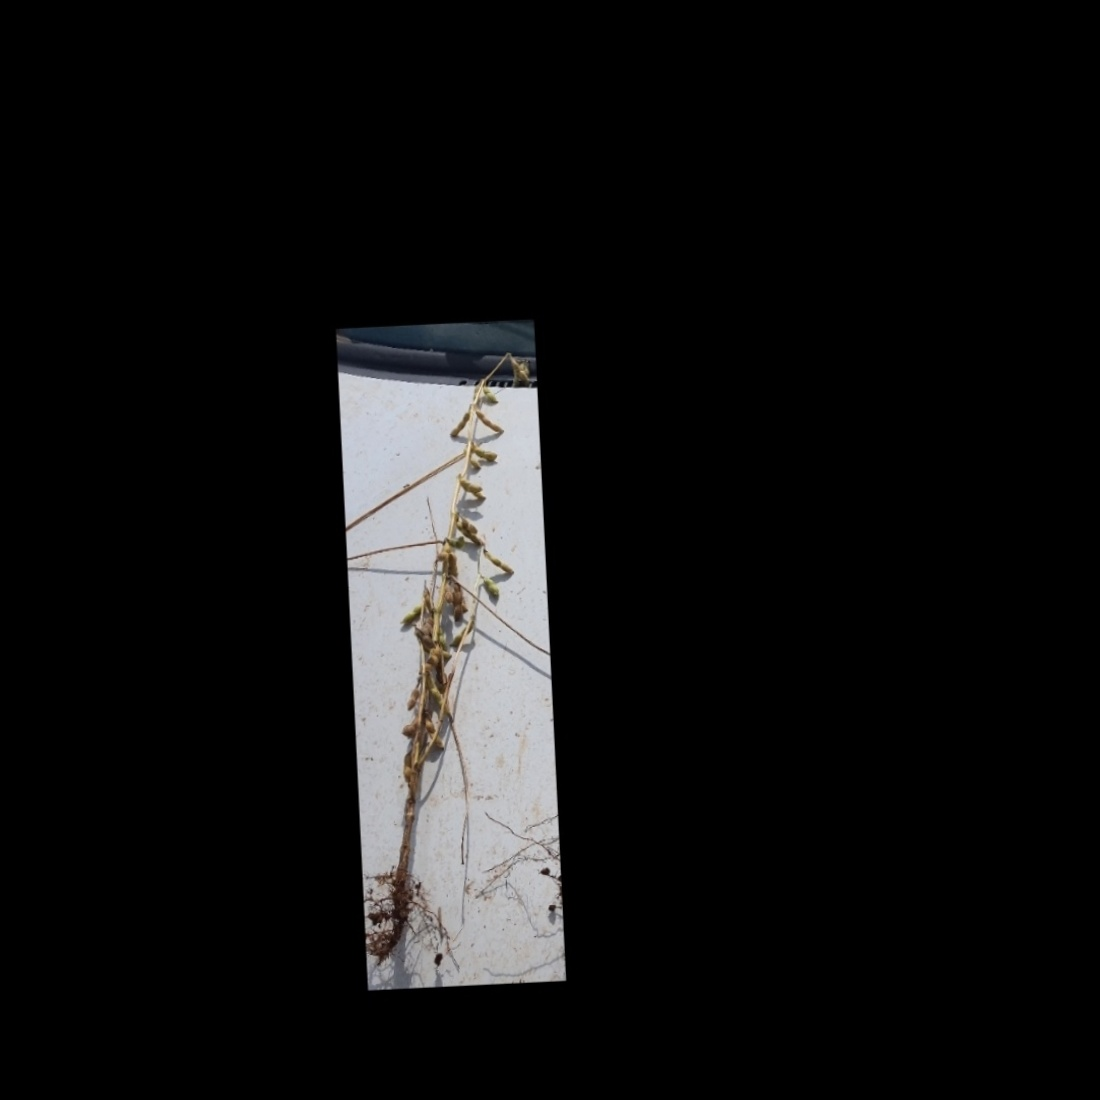pod: (485, 548, 515, 577), (474, 407, 504, 436), (447, 409, 469, 438), (397, 602, 425, 625), (401, 685, 420, 714), (483, 576, 501, 599), (474, 445, 499, 460), (482, 384, 499, 404), (469, 455, 483, 473)
soy: (351, 343, 564, 976)
